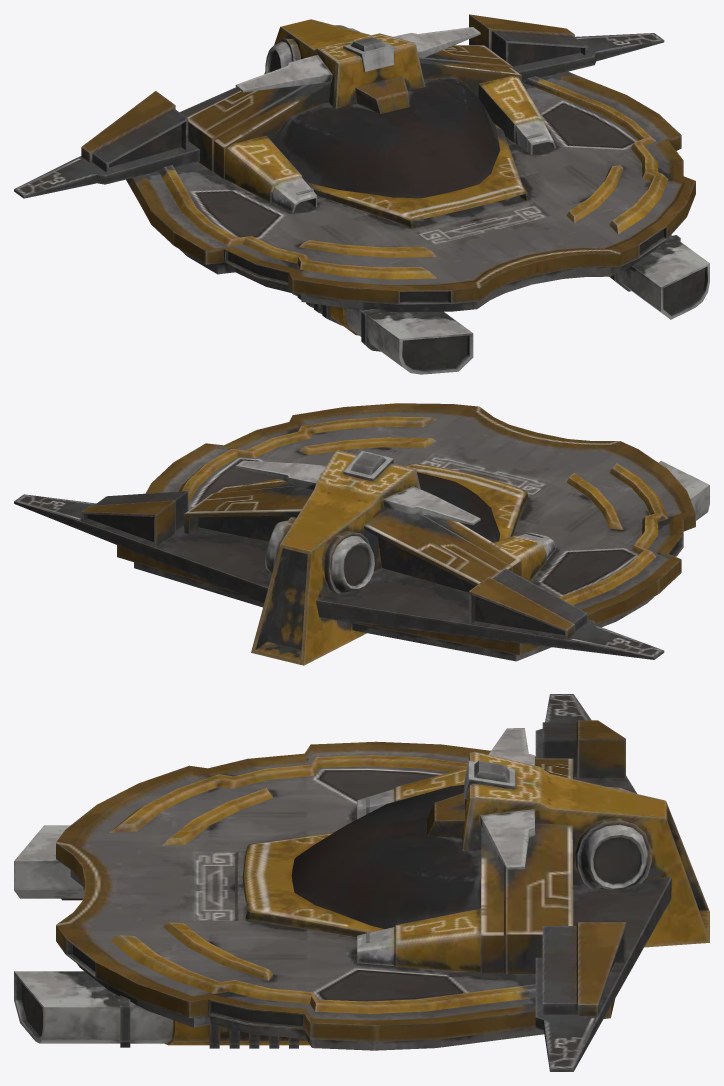
File: Pancake.glb
3 views of the same model, one above another, from view 1: azimuth 30°, elevation 25°; view 2: azimuth 150°, elevation 25°; view 3: azimuth 270°, elevation 25° (orthographic). The views are drawn at different scales.
Visible parts, largest first — view 1: Pancake; view 2: Pancake; view 3: Pancake.
Boxes of the visible parts, left/top/right/bottom form: Pancake: left=14, top=14, right=709, bottom=374; Pancake: left=14, top=403, right=709, bottom=665; Pancake: left=14, top=694, right=709, bottom=1071.
Size of the model in its own units: 10.5 by 2.6 by 8.23.
1 material, 1 textured.
